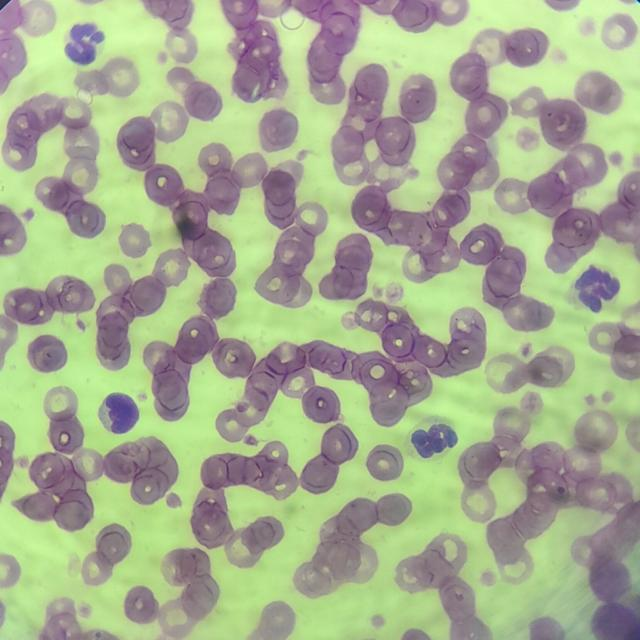Neutrofilo: (402, 413, 463, 468), (571, 263, 625, 320), (58, 16, 108, 67)
